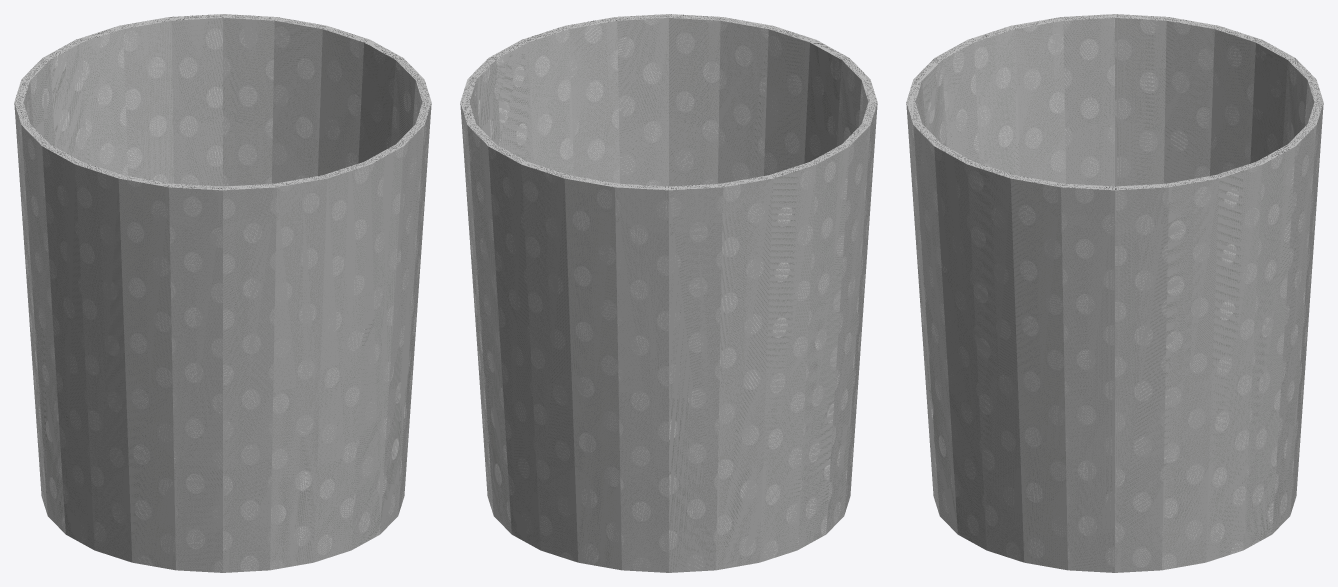
3 renders of one model, left to right at view 1: azimuth 30°, elevation 25°; view 2: azimuth 150°, elevation 25°; view 3: azimuth 270°, elevation 25°, orthographic.
Parts seen in each view (by area): view 1: mesh1.001_mesh1-geometry; view 2: mesh1.001_mesh1-geometry; view 3: mesh1.001_mesh1-geometry.
Boxes of the visible parts, x1,y1,x2,y2 form: mesh1.001_mesh1-geometry: (14, 14, 431, 572); mesh1.001_mesh1-geometry: (460, 14, 877, 572); mesh1.001_mesh1-geometry: (906, 14, 1323, 572).
Bounding box in the file's own units: 0.5693 × 0.5931 × 0.5693.
